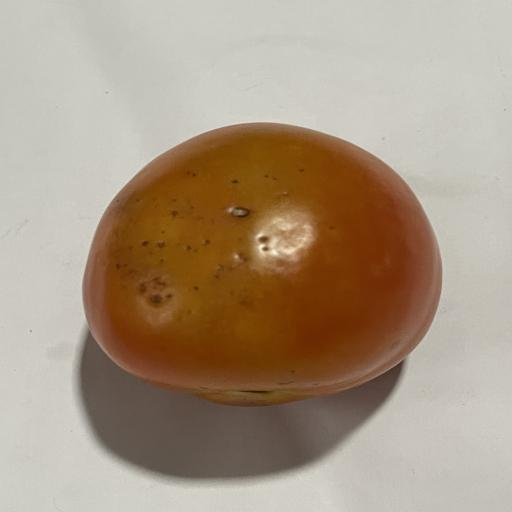unripe: (83, 123, 441, 405)
